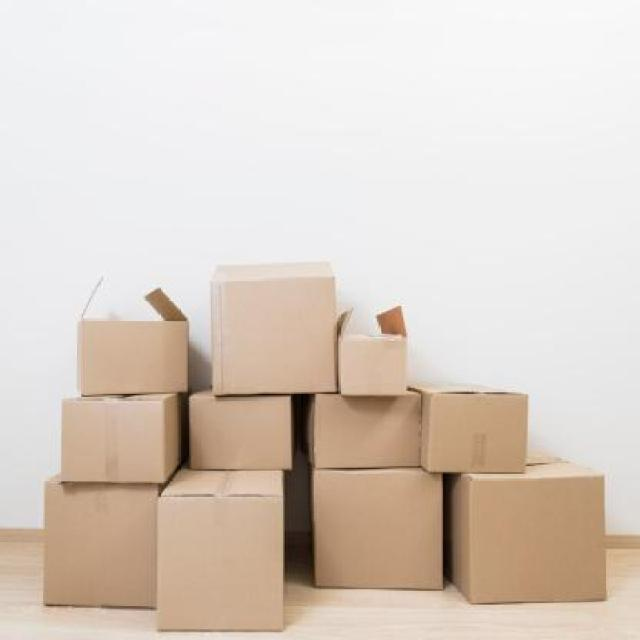BoxFace: (473, 477, 607, 603), (157, 494, 280, 631), (312, 470, 443, 592), (212, 276, 338, 396), (44, 482, 158, 610), (61, 398, 167, 484), (80, 318, 188, 396), (428, 392, 528, 474), (316, 392, 421, 470), (188, 394, 294, 471), (340, 334, 408, 398)
